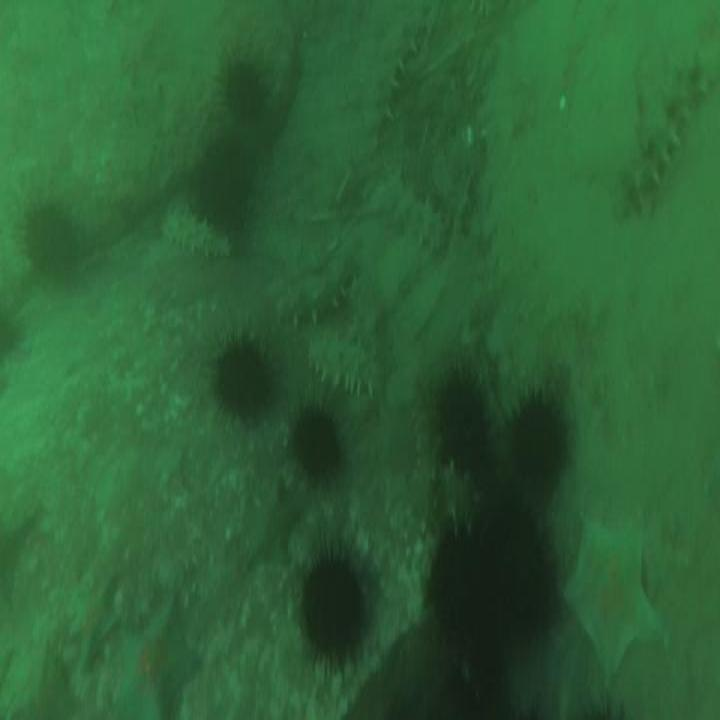echinus: (487, 494, 554, 617), (428, 530, 489, 633), (302, 556, 362, 656), (193, 142, 251, 224), (511, 398, 563, 486), (219, 338, 269, 420), (439, 379, 483, 471), (24, 210, 74, 276), (295, 411, 337, 476), (224, 62, 264, 119)
holothurian: (633, 52, 720, 140), (631, 108, 682, 217), (363, 25, 403, 155), (382, 174, 446, 249), (275, 265, 347, 320), (311, 336, 374, 395), (159, 212, 232, 262)
starfish: (564, 510, 663, 674), (119, 601, 197, 713), (69, 580, 118, 666)
